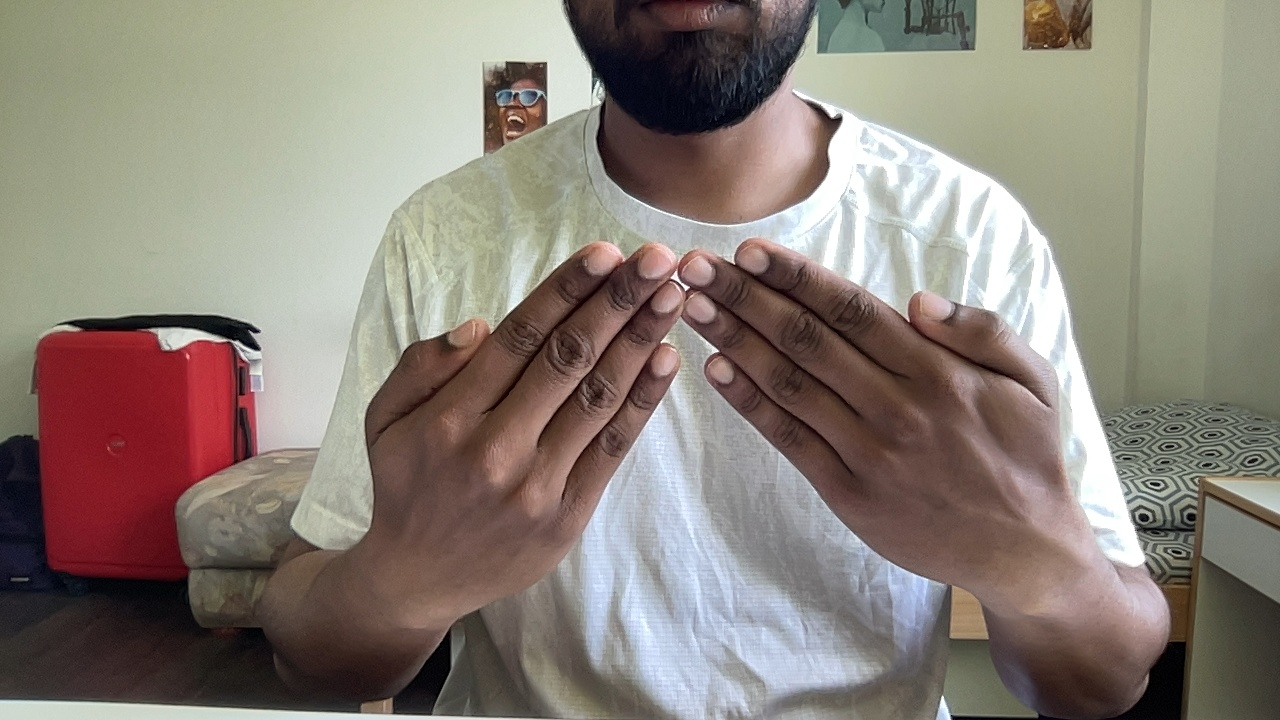ThankYou: (358, 236, 1062, 621)
